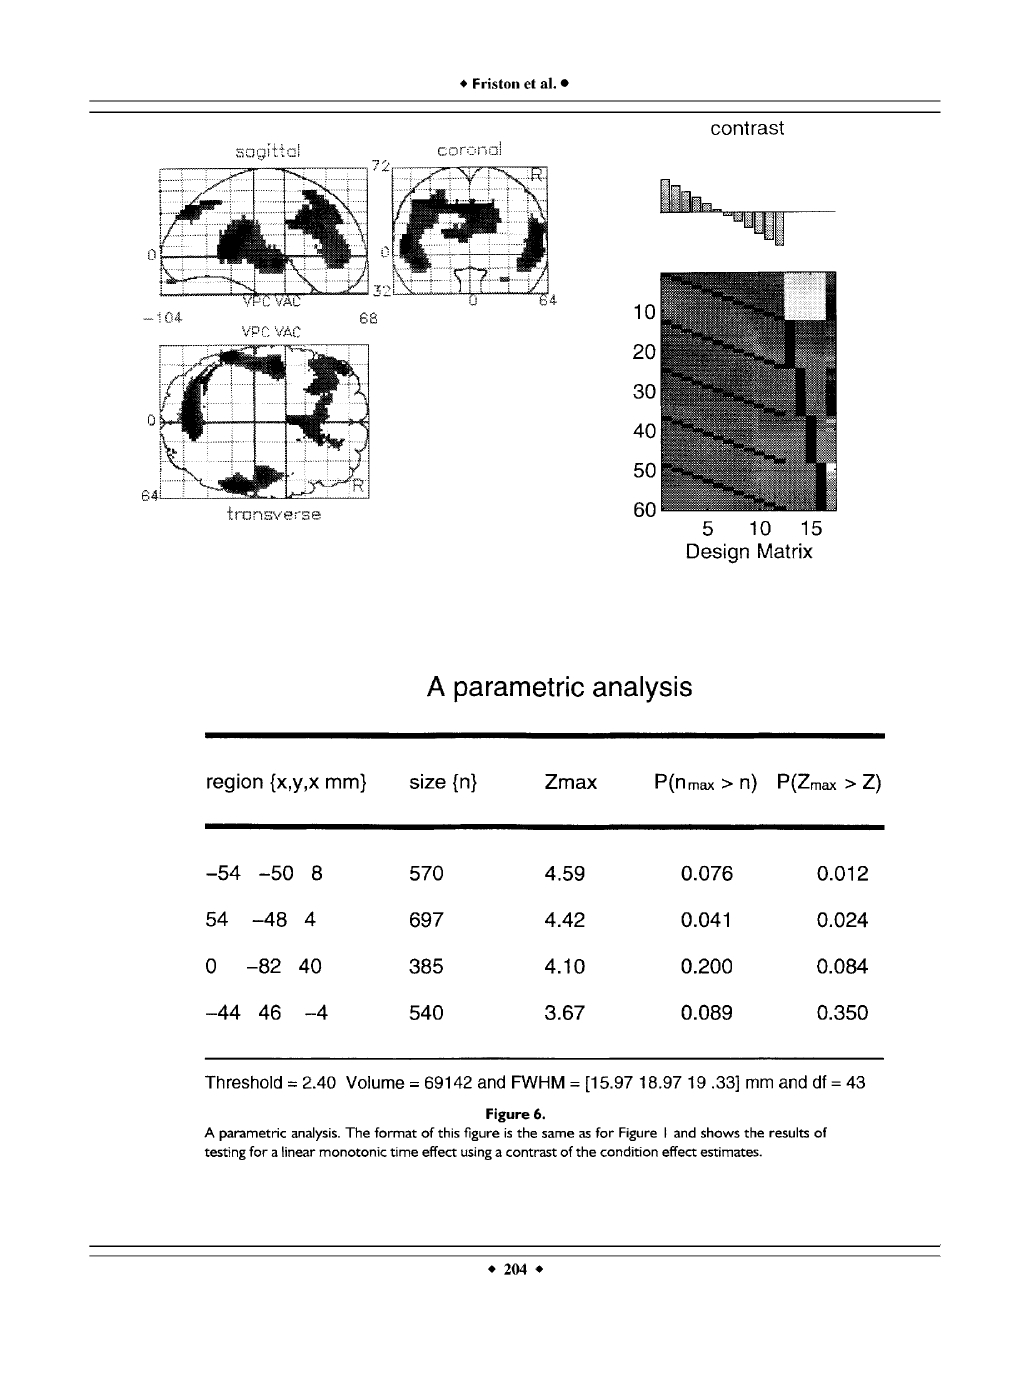Table: (204, 732, 884, 1059)
figure: (142, 141, 556, 519), (633, 121, 836, 563)
